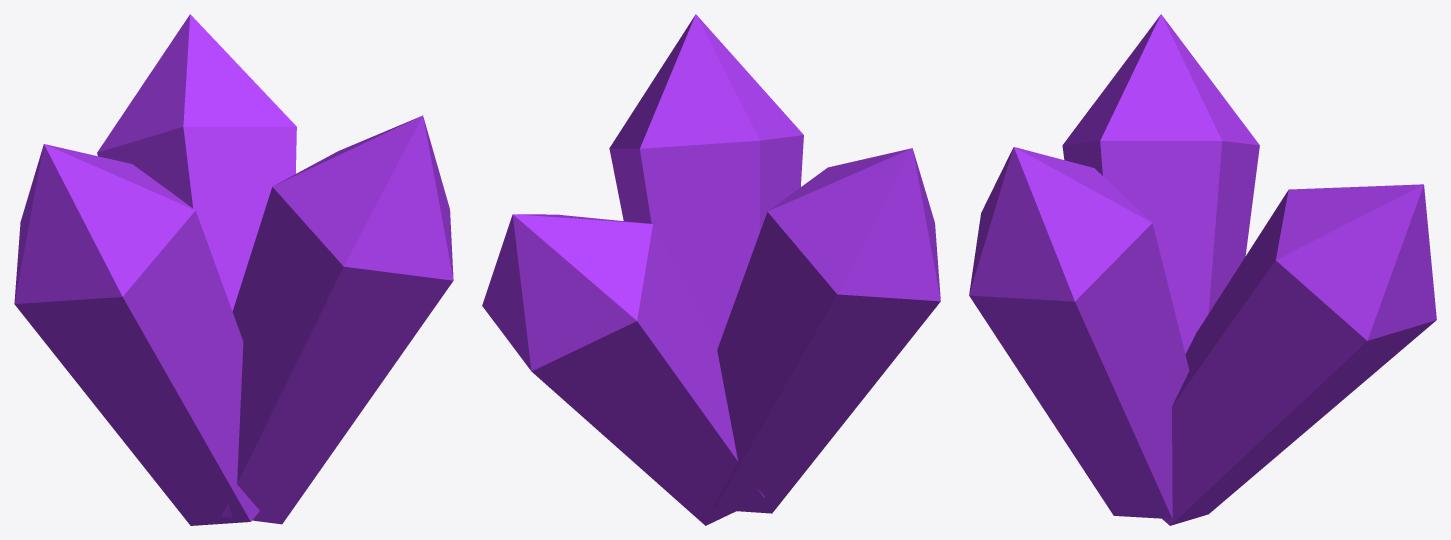
File: crystals1.fbx
The picture shows the model from 3 angles, left to right: view 1: azimuth 30°, elevation 25°; view 2: azimuth 150°, elevation 25°; view 3: azimuth 270°, elevation 25°; orthographic projection. The views are drawn at different scales.
Visible parts, largest first — view 1: crystal1; view 2: crystal1; view 3: crystal1.
Boxes of the visible parts, x1,y1,x2,y2 form: crystal1: (14,14,453,525); crystal1: (482,14,940,525); crystal1: (969,14,1436,525).
Size of the model in its own units: 4.42 by 4.69 by 4.74.
